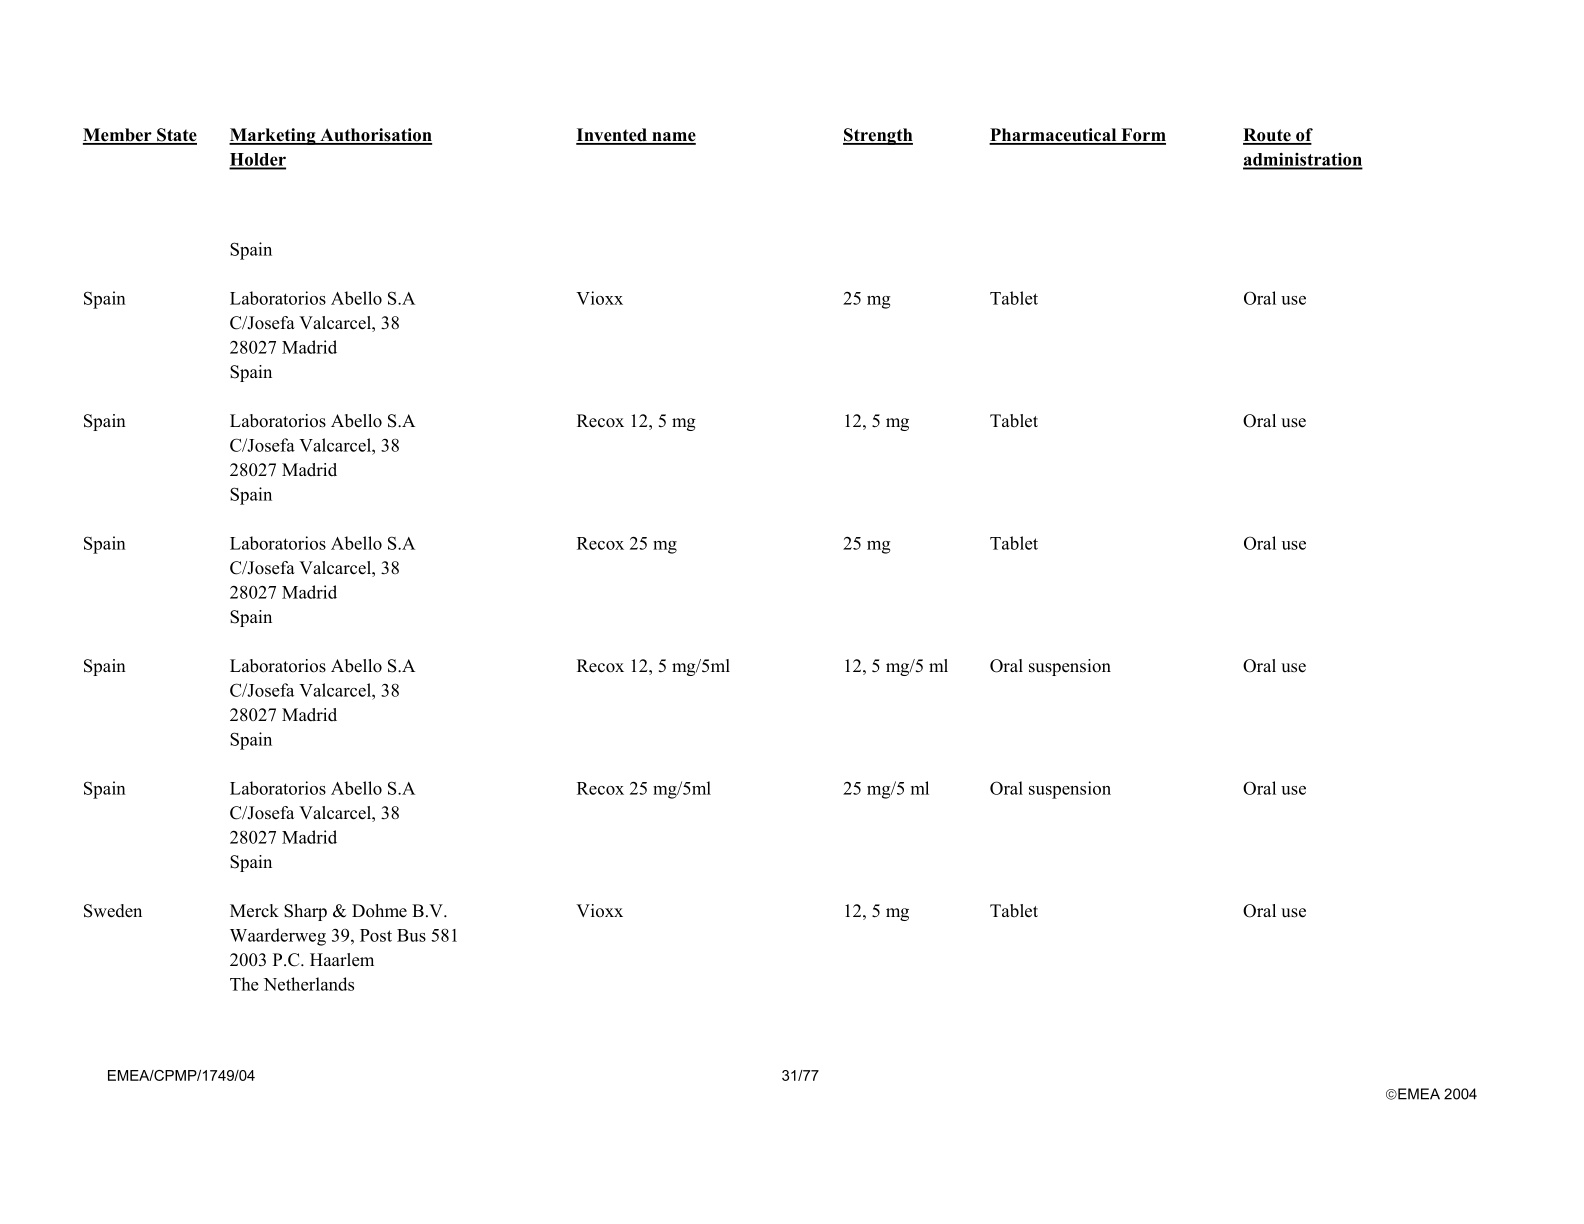nolines: (77, 123, 1365, 995)
